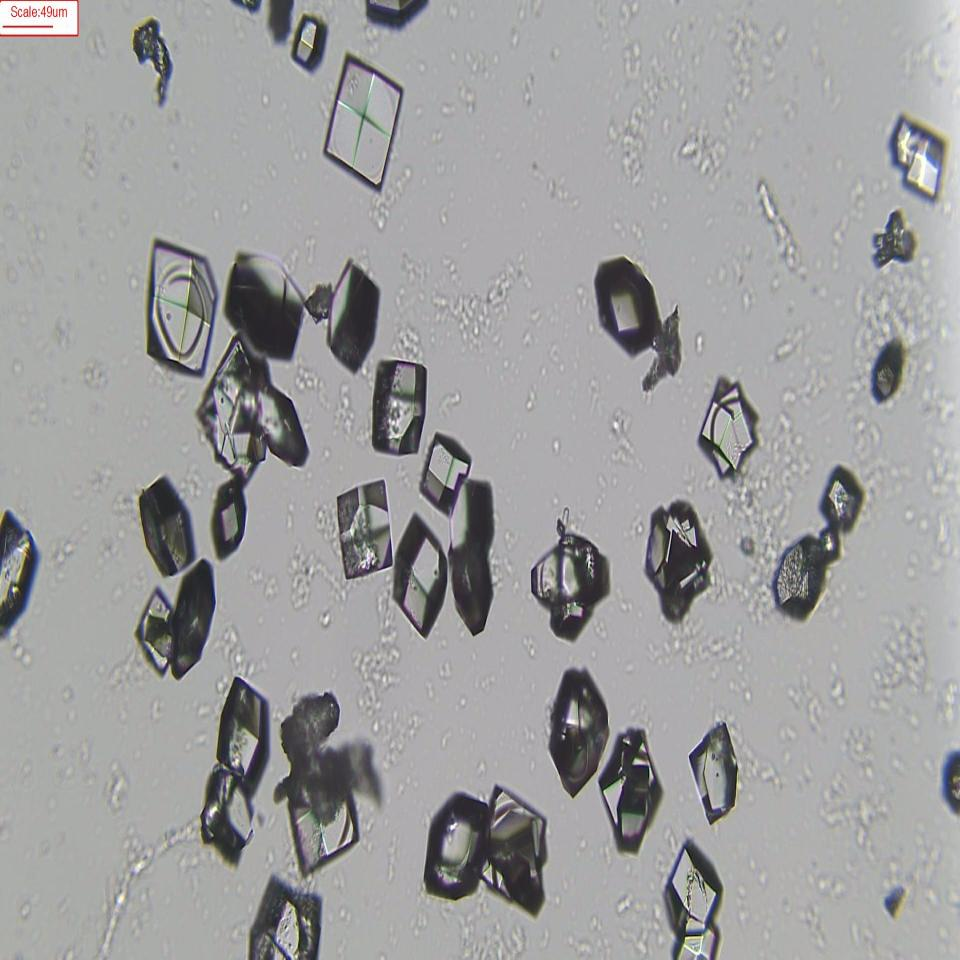crystal: (481, 777, 560, 914), (325, 50, 403, 186), (145, 234, 216, 377), (223, 247, 308, 359), (524, 532, 615, 627), (644, 508, 713, 628), (243, 878, 334, 960), (587, 256, 664, 346), (393, 512, 448, 637), (548, 668, 602, 792), (603, 732, 659, 851), (169, 556, 218, 682), (689, 718, 741, 832), (424, 793, 479, 898), (368, 352, 425, 453), (333, 486, 394, 580), (217, 679, 270, 786), (327, 259, 378, 368), (702, 375, 754, 475), (772, 533, 828, 625), (140, 480, 196, 570), (420, 427, 473, 512), (862, 334, 913, 418), (134, 591, 178, 675), (913, 128, 949, 204), (817, 473, 865, 529), (211, 480, 246, 556), (291, 12, 324, 69), (891, 119, 922, 165)
not_crystal: (281, 702, 359, 865), (201, 356, 302, 472)
